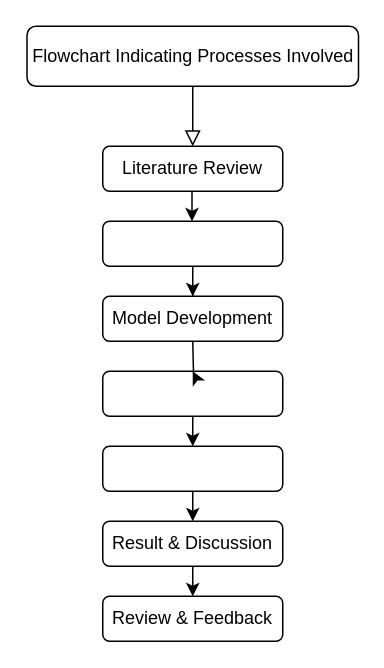
This 384x668 diagram has some shape labels left out. The shapes that lost their labels are listed below. From the top down, each one's centre as x and y in pixels, then its label:
At (x=192, y=243): "Data Collection".
At (x=192, y=393): "Interferogram Generation".
At (x=192, y=468): "Validation".
